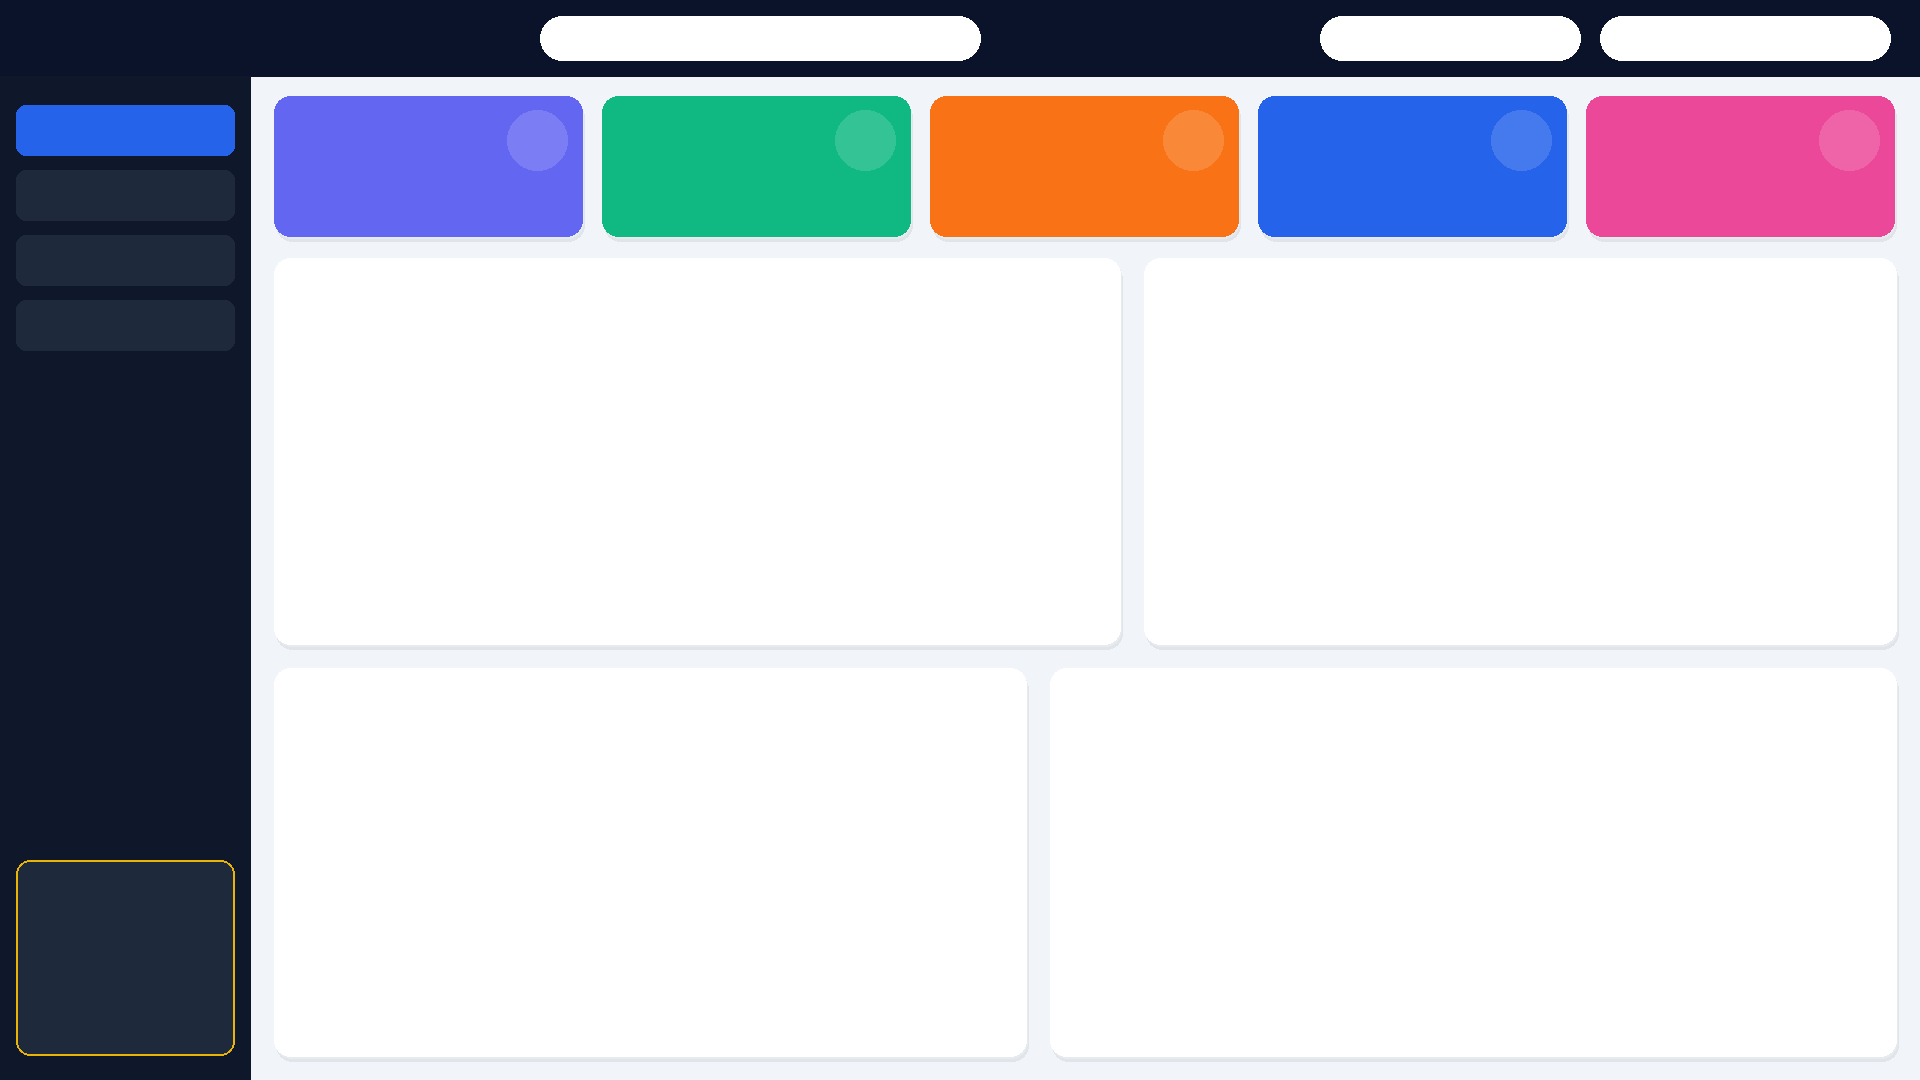

This screenshot's page, from the dashboard's own definition file:
{"tool":"powerbi","page":{"name":"Executive Overview","canvas":[1280,720],"ordinal":0},"visuals":[{"type":"card","fields":{"Values":["_Measures.Dynamic Dashboard Title"]},"box":[0,0,342.5,52.5],"z":0},{"type":"slicer","fields":{"Values":["Countries.Country"]},"box":[393.3,7.2,302.8,41],"z":1000},{"type":"slicer","fields":{"Values":["Countries.Region"]},"box":[902.5,5,144.2,41.7],"z":2000},{"type":"slicer","fields":{"Values":["Countries.GDP Category"]},"box":[1063.3,5.6,203.3,41.1],"z":3000},{"type":"card","fields":{"Values":["_Measures.Average GDP"]},"box":[171.1,27.8,182.2,150],"z":4000},{"type":"card","fields":{"Values":["_Measures.Total Population"]},"box":[390,28.9,182.2,150],"z":5000},{"type":"card","fields":{"Values":["_Measures.Average Life Expectancy"]},"box":[605.6,30,182.2,150],"z":6000},{"type":"card","fields":{"Values":["_Measures.Highest GDP Country"]},"box":[830,31.1,182.2,150],"z":7000},{"type":"card","fields":{"Values":["_Measures.Lowest Inflation Country"]},"box":[1046.7,32.2,182.2,150],"z":8000},{"type":"clusteredBarChart","fields":{"Category":["Countries.Country"],"Y":["Sum(Countries.GDP)"]},"box":[184.6,176.1,565.8,260.6],"z":9000},{"type":"donutChart","fields":{"Category":["Countries.Region"],"Y":["_Measures.Total Population"]},"box":[761.3,182.2,501.9,254.6],"z":10000},{"type":"azureMap","fields":{"Category":["Countries.Country"],"Series":["Countries.Development Level"],"Size":["Sum(Countries.GDP)"]},"box":[184.6,452.4,492.2,249.7],"z":11000},{"type":"tableEx","fields":{"Values":["_Measures.Country GDP Rank","_Measures.GDP Growth Indicator","Countries.Country","Countries.Region","Sum(Countries.GDP)","Sum(Countries.GDP_Per_Capita)","Countries.Growth Indicator Category"]},"box":[696.1,452.4,570.6,249.7],"z":12000},{"type":"pageNavigator","box":[0,67.1,171.4,168.6],"z":13000},{"type":"card","fields":{"Values":["_Measures.Population Density"]},"box":[0,577.1,171.4,64.3],"z":13001},{"type":"card","fields":{"Values":["_Measures.Average GDP Growth (%)"]},"box":[0,638.6,171.4,64.3],"z":13002}]}

Visuals, with their boxes on the page's 1280x720 design canvas (x1, y1, x2, y2). These are canvas units, not pixel positions in the 1920x1080 screenshot, which may show the page scaled, cropped or inside an application window:
card - _Measures.Dynamic Dashboard Title: [left=0, top=0, right=342, bottom=52]
slicer - Countries.Country: [left=393, top=7, right=696, bottom=48]
slicer - Countries.Region: [left=902, top=5, right=1047, bottom=47]
slicer - Countries.GDP Category: [left=1063, top=6, right=1267, bottom=47]
card - _Measures.Average GDP: [left=171, top=28, right=353, bottom=178]
card - _Measures.Total Population: [left=390, top=29, right=572, bottom=179]
card - _Measures.Average Life Expectancy: [left=606, top=30, right=788, bottom=180]
card - _Measures.Highest GDP Country: [left=830, top=31, right=1012, bottom=181]
card - _Measures.Lowest Inflation Country: [left=1047, top=32, right=1229, bottom=182]
clusteredBarChart - Countries.Country x Sum(Countries.GDP): [left=185, top=176, right=750, bottom=437]
donutChart - Countries.Region x _Measures.Total Population: [left=761, top=182, right=1263, bottom=437]
azureMap - Countries.Country x Countries.Development Level: [left=185, top=452, right=677, bottom=702]
tableEx - _Measures.Country GDP Rank x _Measures.GDP Growth Indicator: [left=696, top=452, right=1267, bottom=702]
pageNavigator: [left=0, top=67, right=171, bottom=236]
card - _Measures.Population Density: [left=0, top=577, right=171, bottom=641]
card - _Measures.Average GDP Growth (%): [left=0, top=639, right=171, bottom=703]
